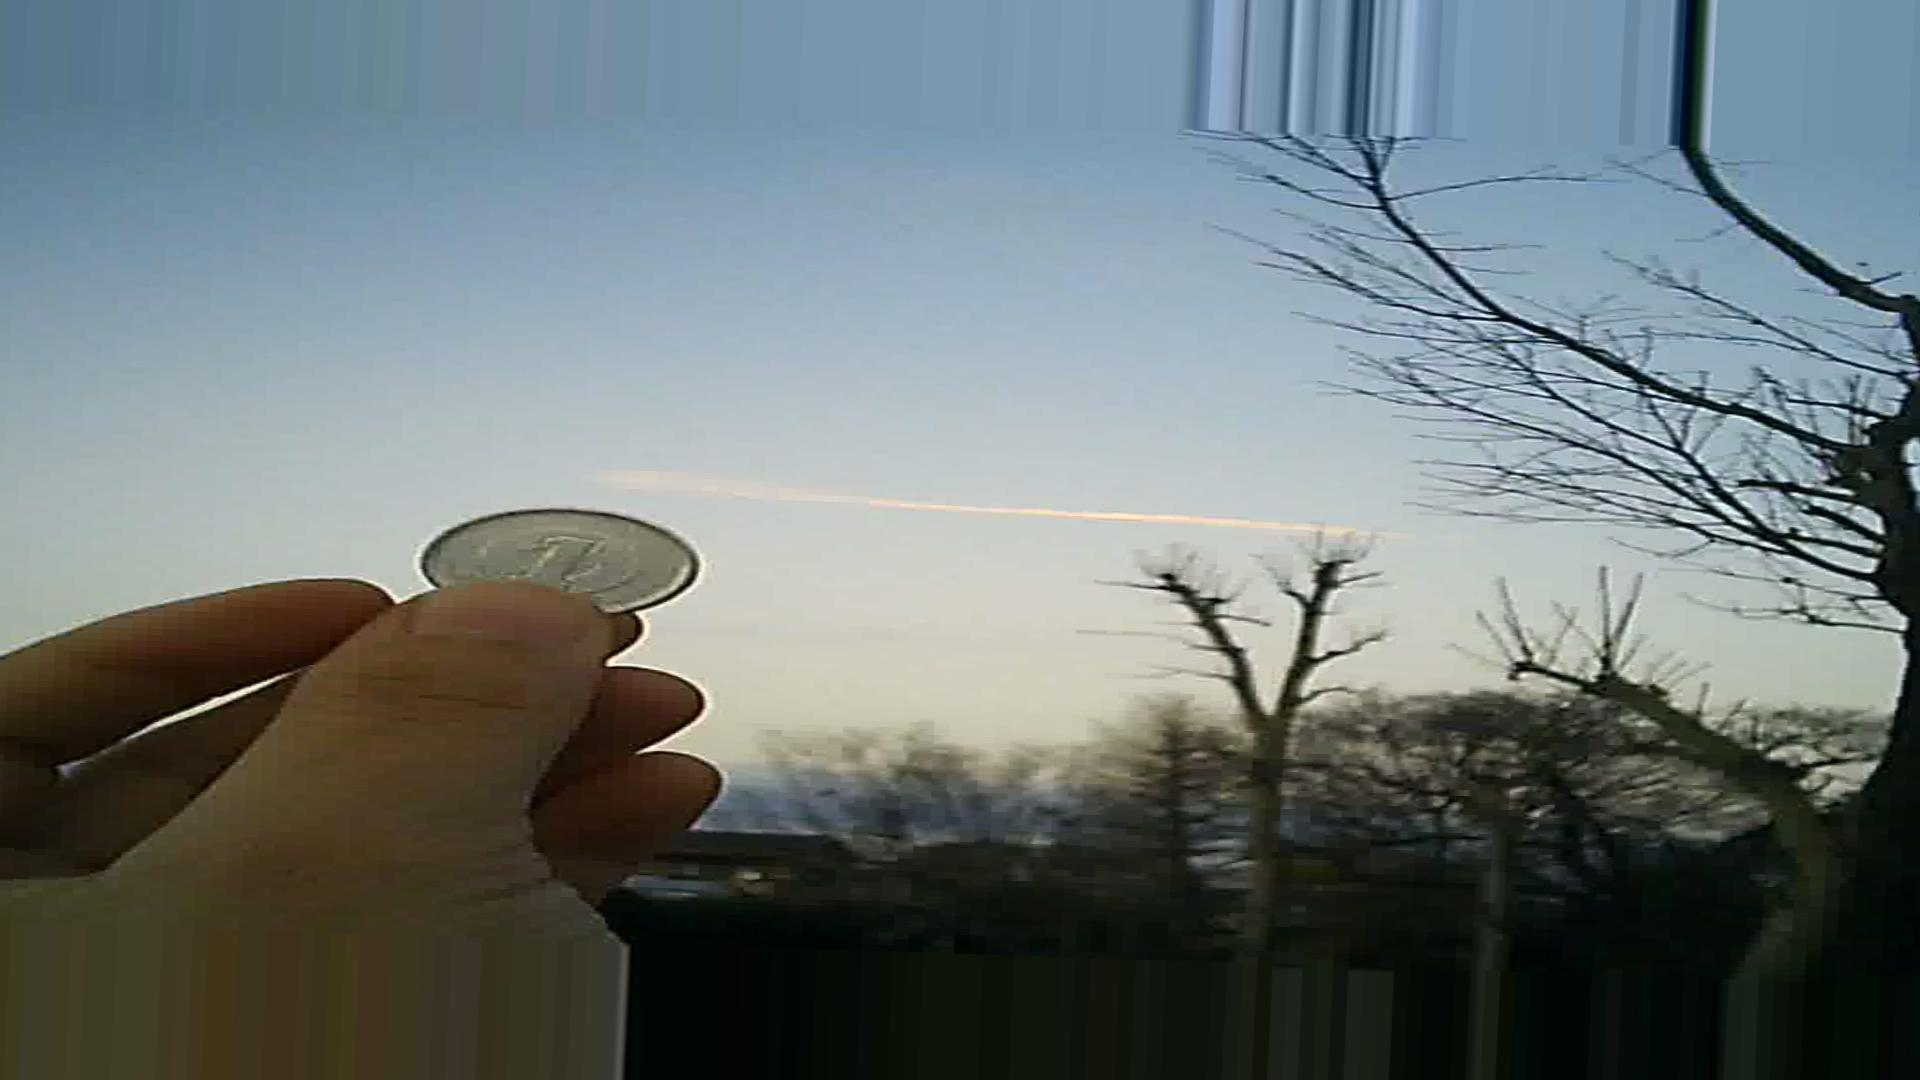1 Yen: (413, 498, 709, 612)
